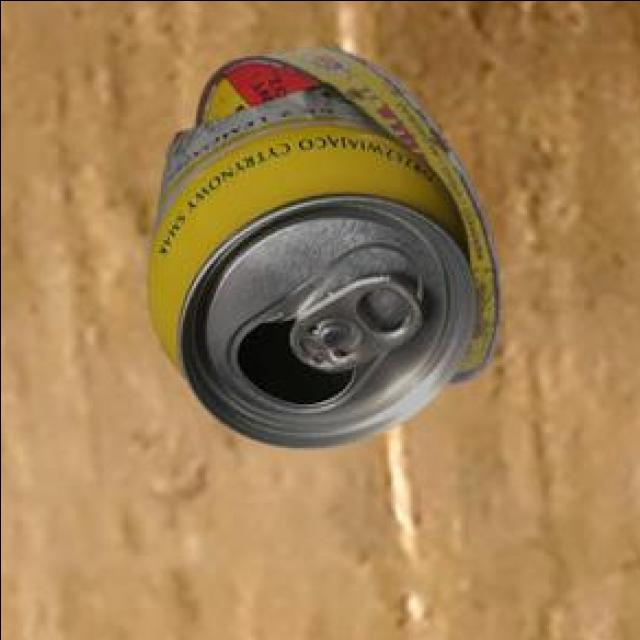logam: (150, 84, 479, 450), (198, 49, 503, 387)
